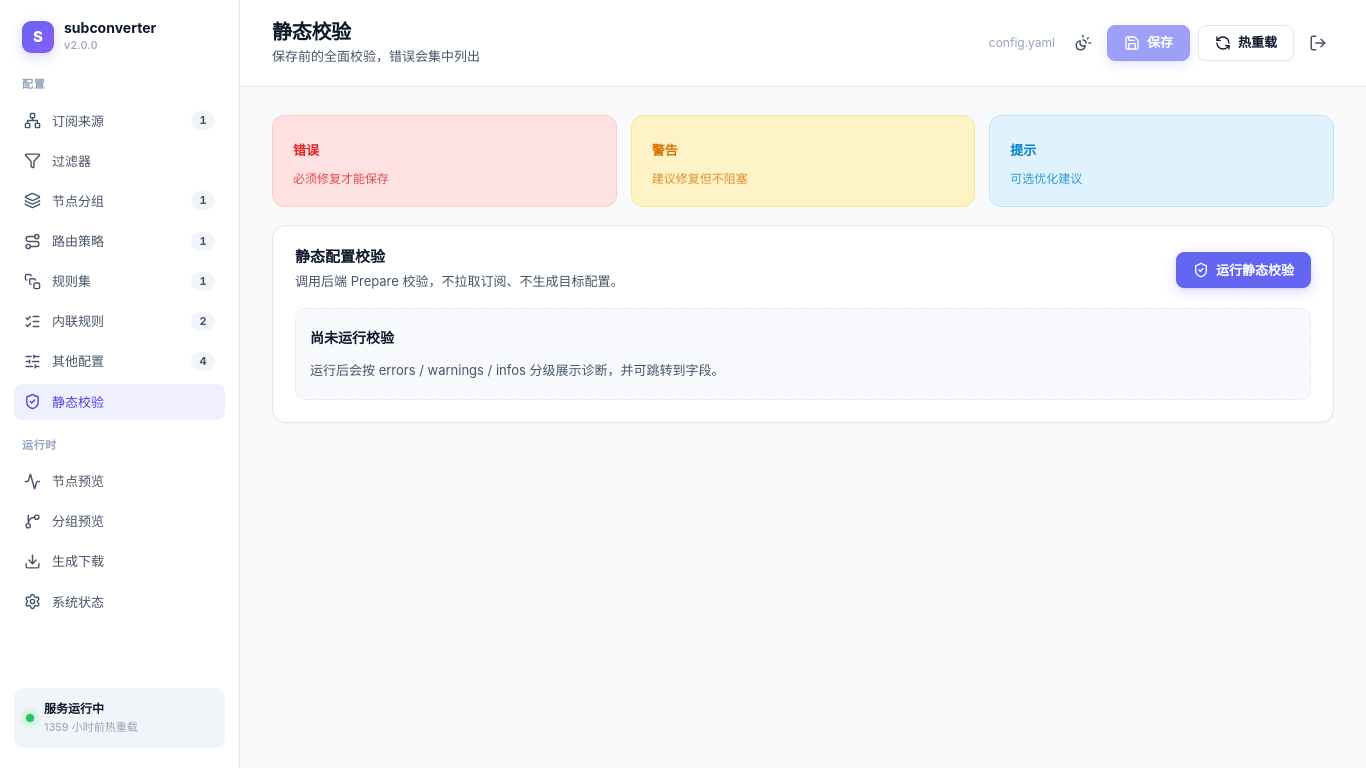
Test case: M10 frontend workflows › T-WEB-014 shows validation diagnostics in a drawer and jumps by json pointer
This screenshot has width=1366, height=768.
Expected: the heading "静态校验" is shown, [272, 20, 351, 44]
Click the button "运行静态校验": coordinates (1244, 270) [1176, 252, 1311, 288]
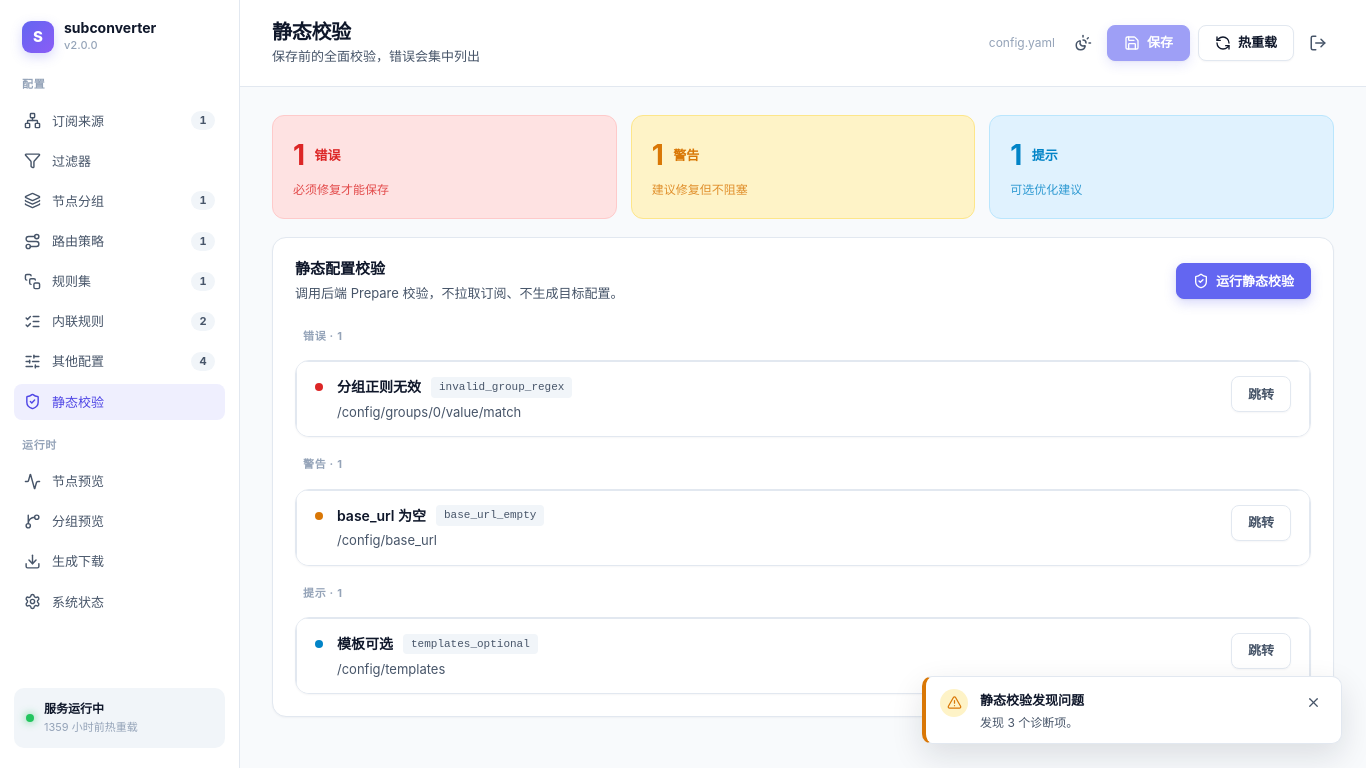
Click the text "invalid_group_regex": coordinates (502, 387) [431, 377, 572, 398]
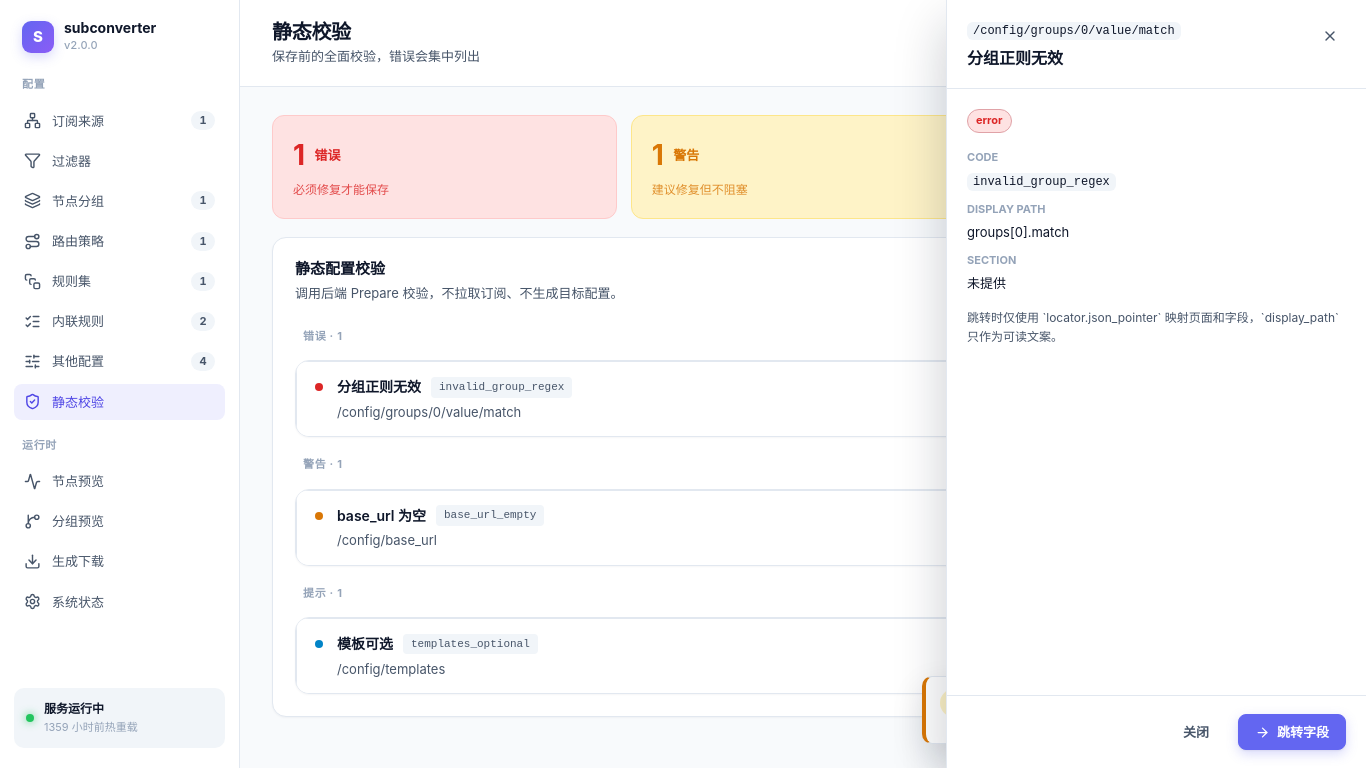
Expected: the dialog "分组正则无效" is shown, [946, 0, 1365, 767]
Click the button "跳转字段": coordinates (1292, 732) [1238, 714, 1346, 750]
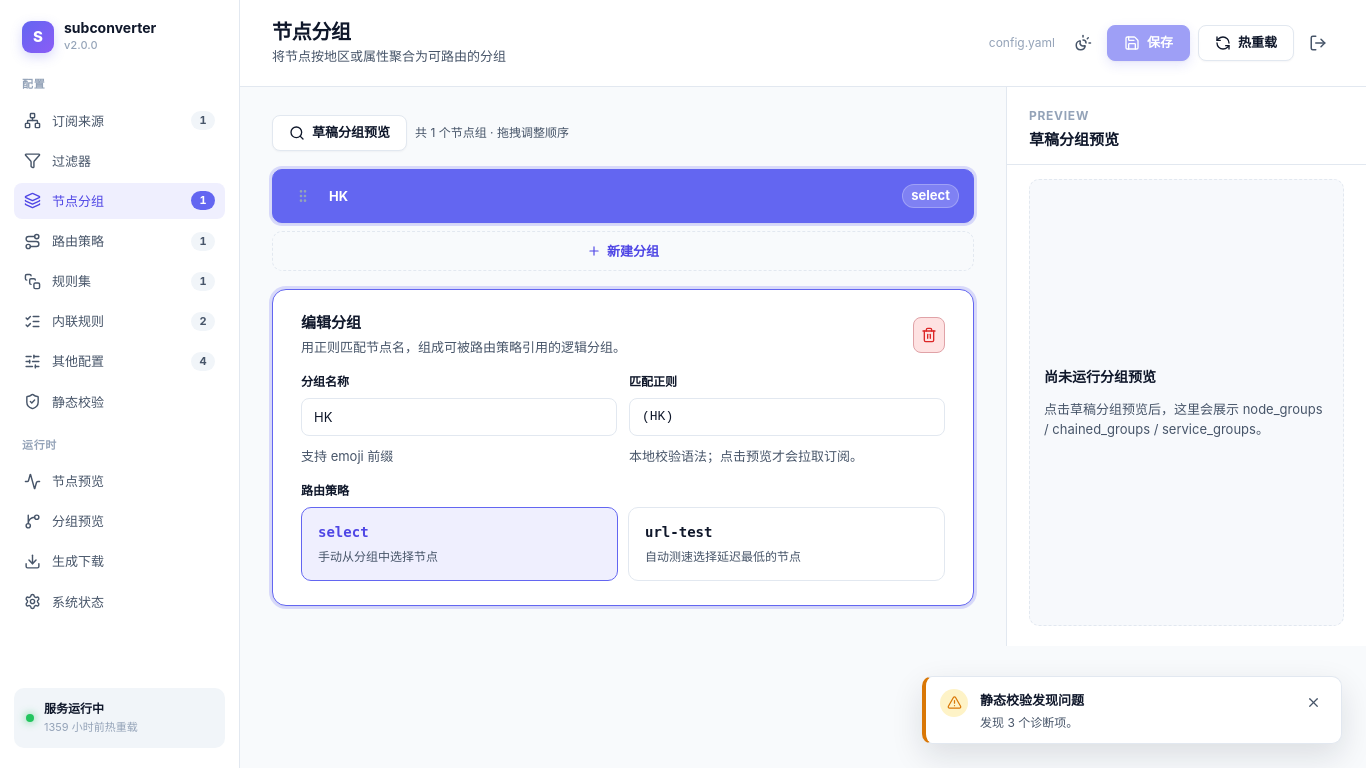
Expected: the heading "节点分组" is shown, [272, 20, 351, 44]
Expected: the field showing "(HK)" is shown, [629, 398, 945, 436]
